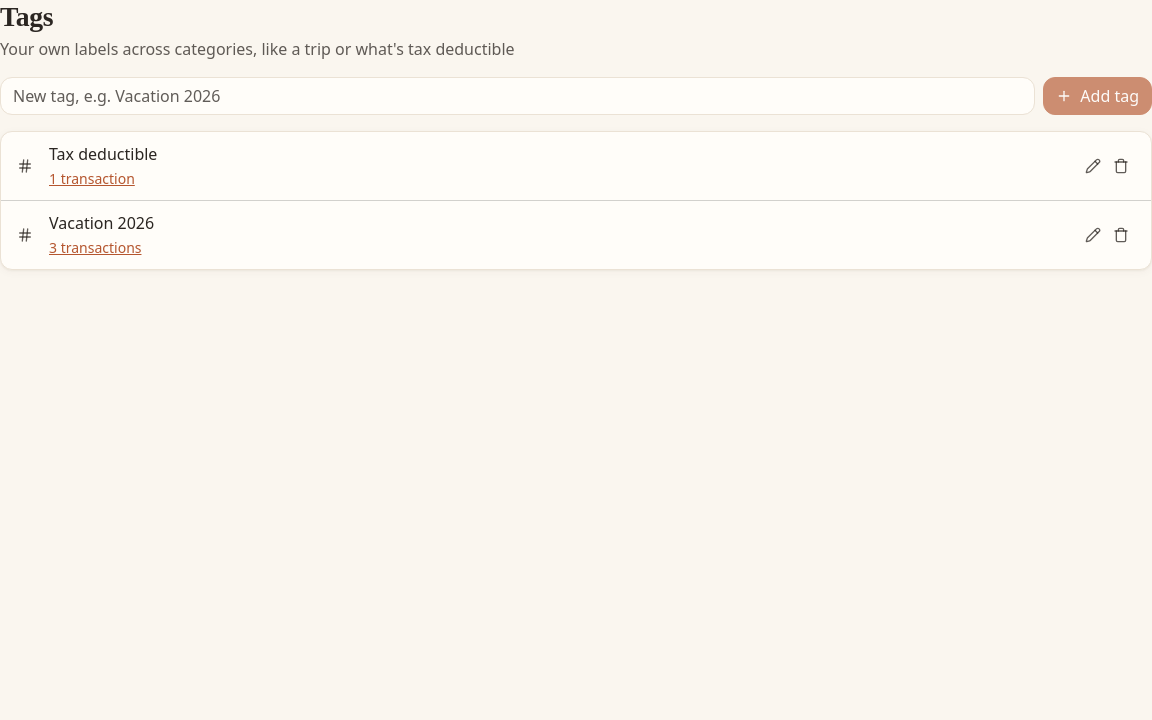
Scenario: TagListComponent › deletes after confirming, saying the transactions stay
Click the button named "Delete Vacation 2026": (1121, 235) [1107,221,1135,249]
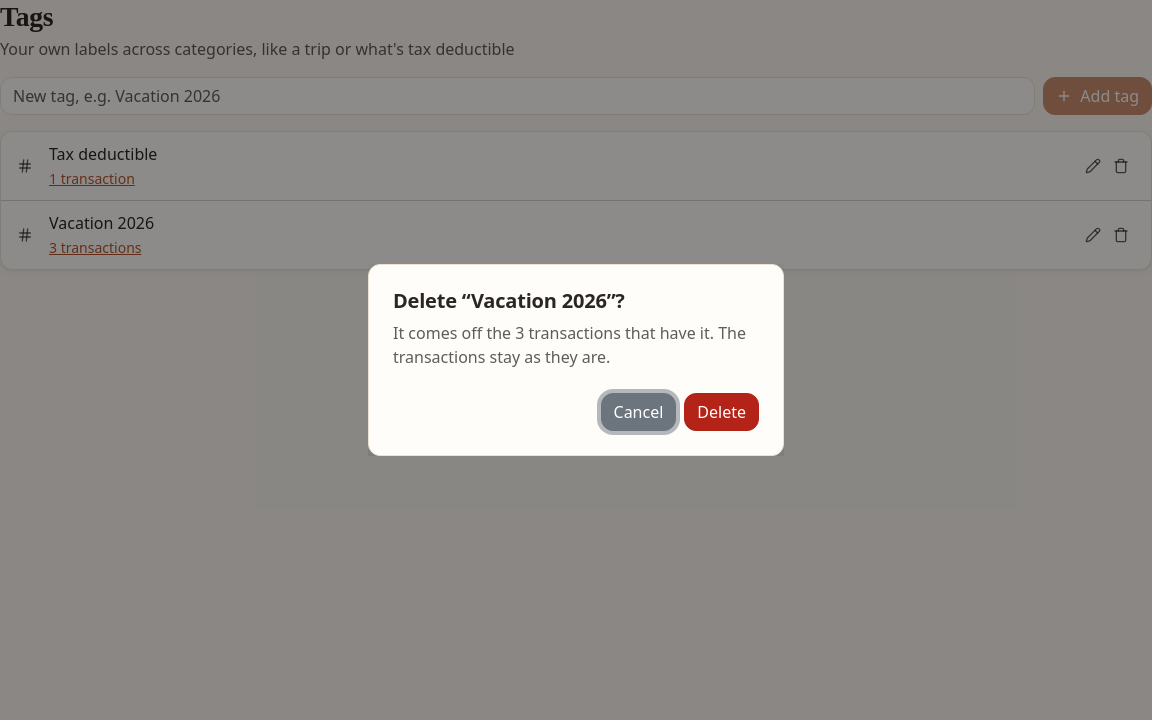
Expected: the text "It comes off the 3 transactions that have it." is shown, [393,322,746,368]
